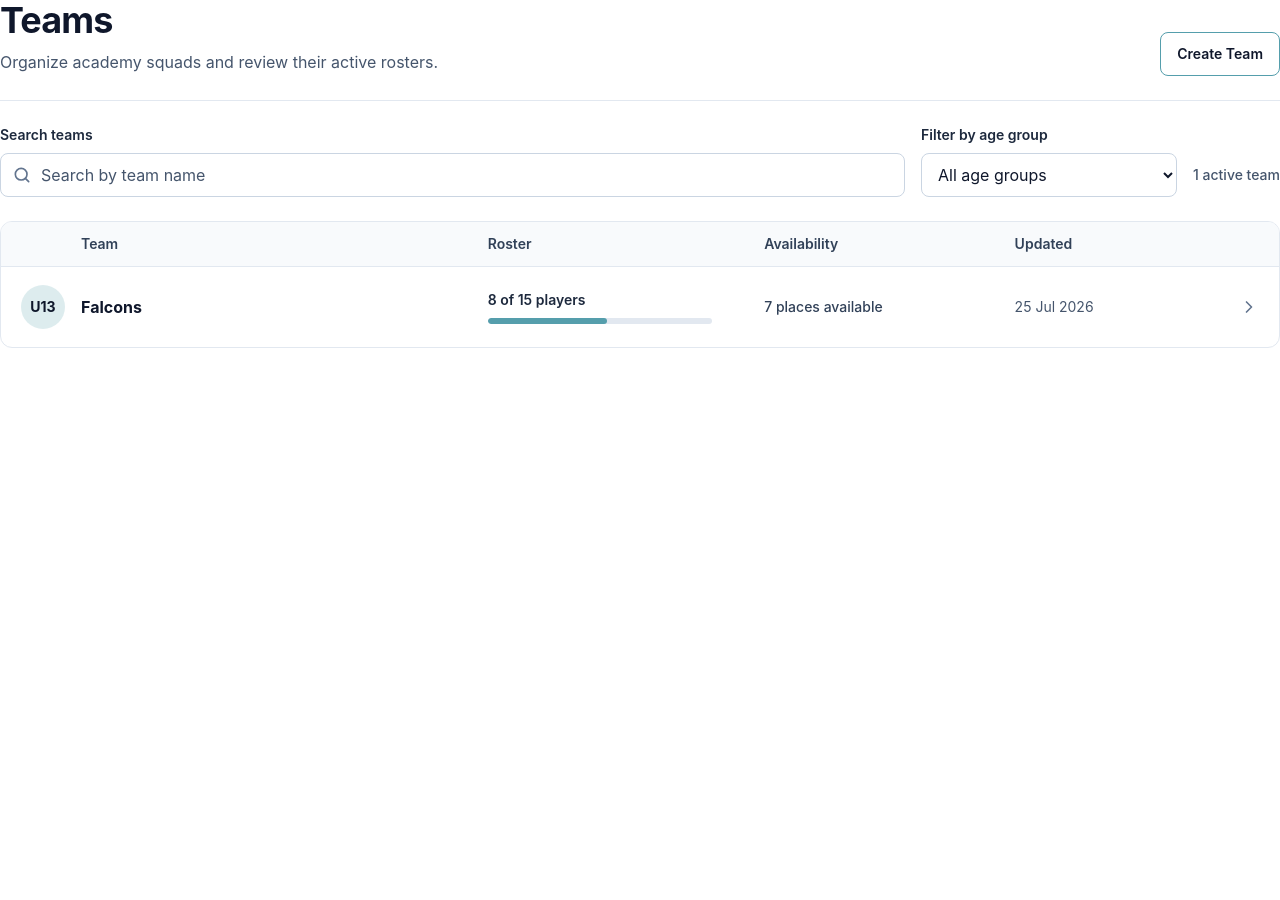
Test: TeamsPage › renders team success through the shared toast and clears it manually
The image size is (1280, 900).
Click the button with aria-label "View Falcons" at (43, 307), box [1, 267, 1279, 347]
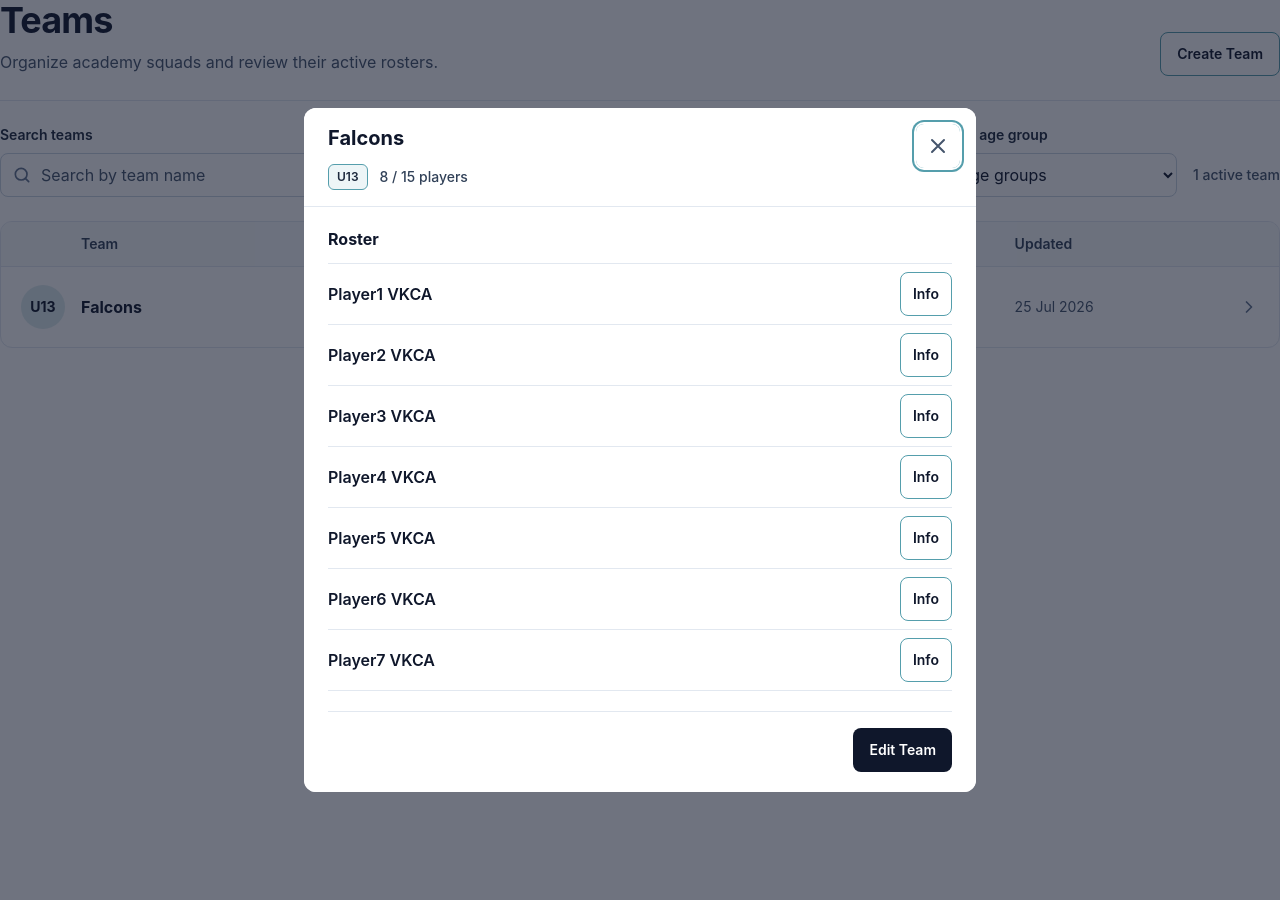
Click the button "Edit Team" at (903, 750), box [853, 728, 952, 772]
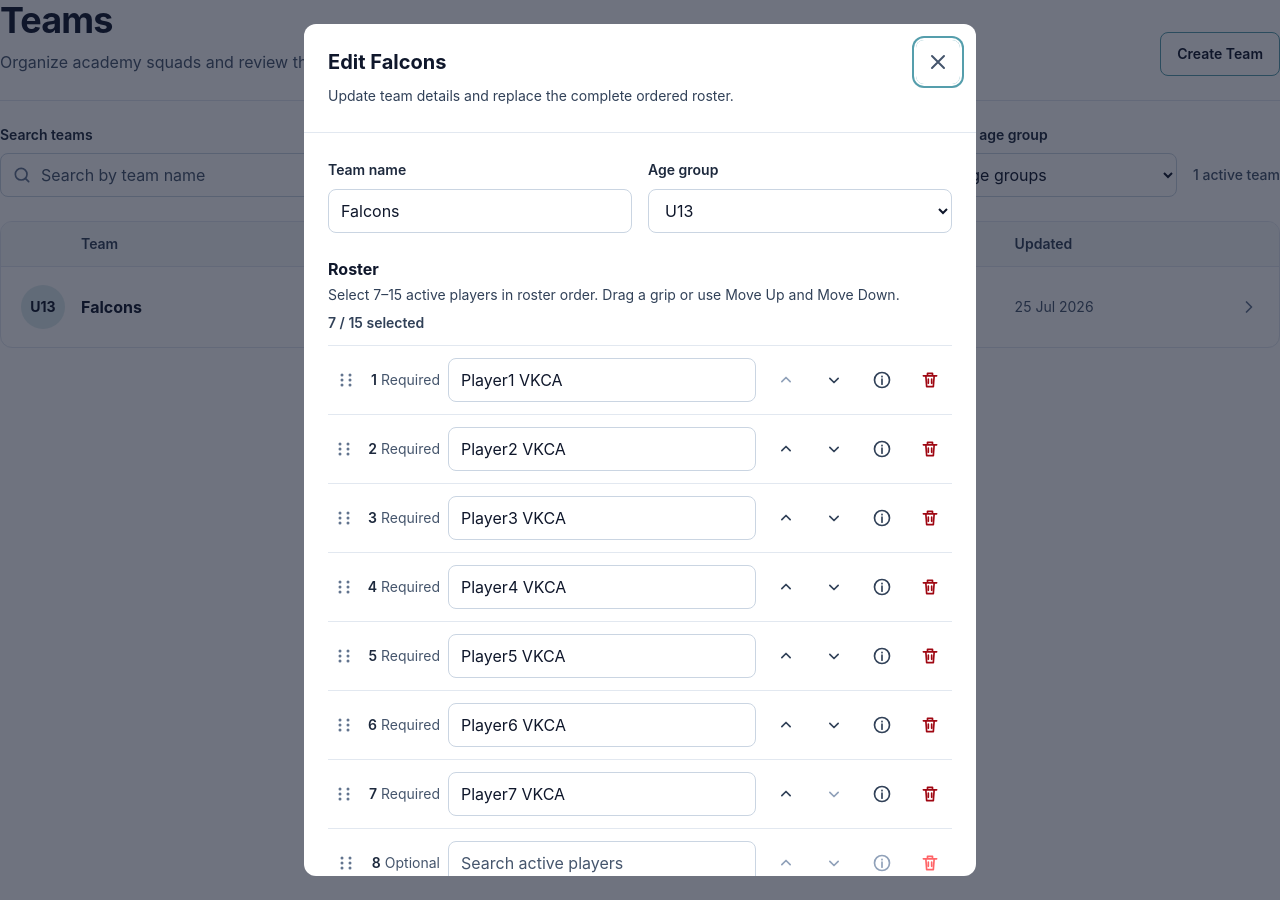
Replace the text in the field labelled "Team name" with "Vulcans I" at (480, 211), box [328, 189, 632, 233]
(page scrolled)
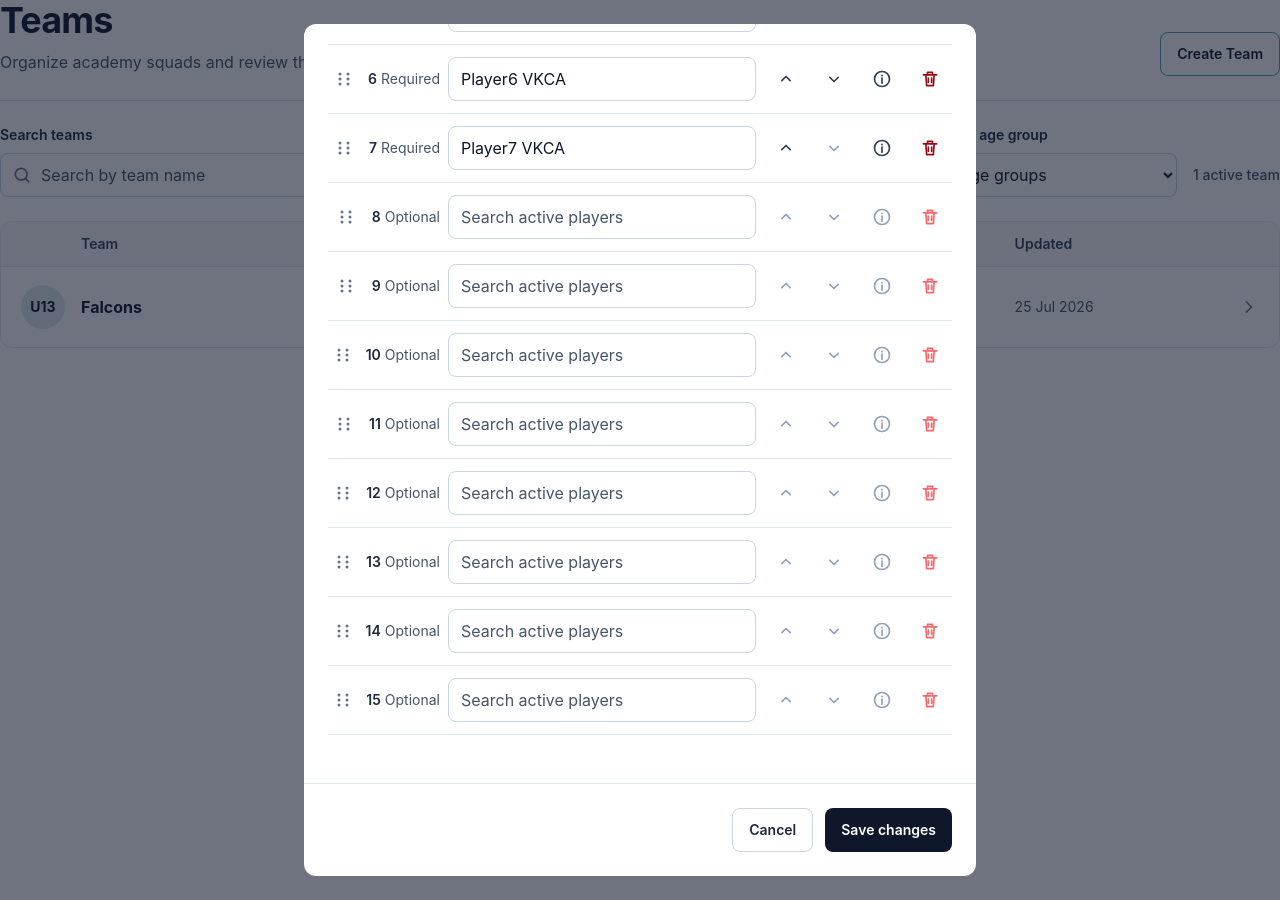
Click the button "Save changes" at (889, 830), box [825, 808, 952, 852]
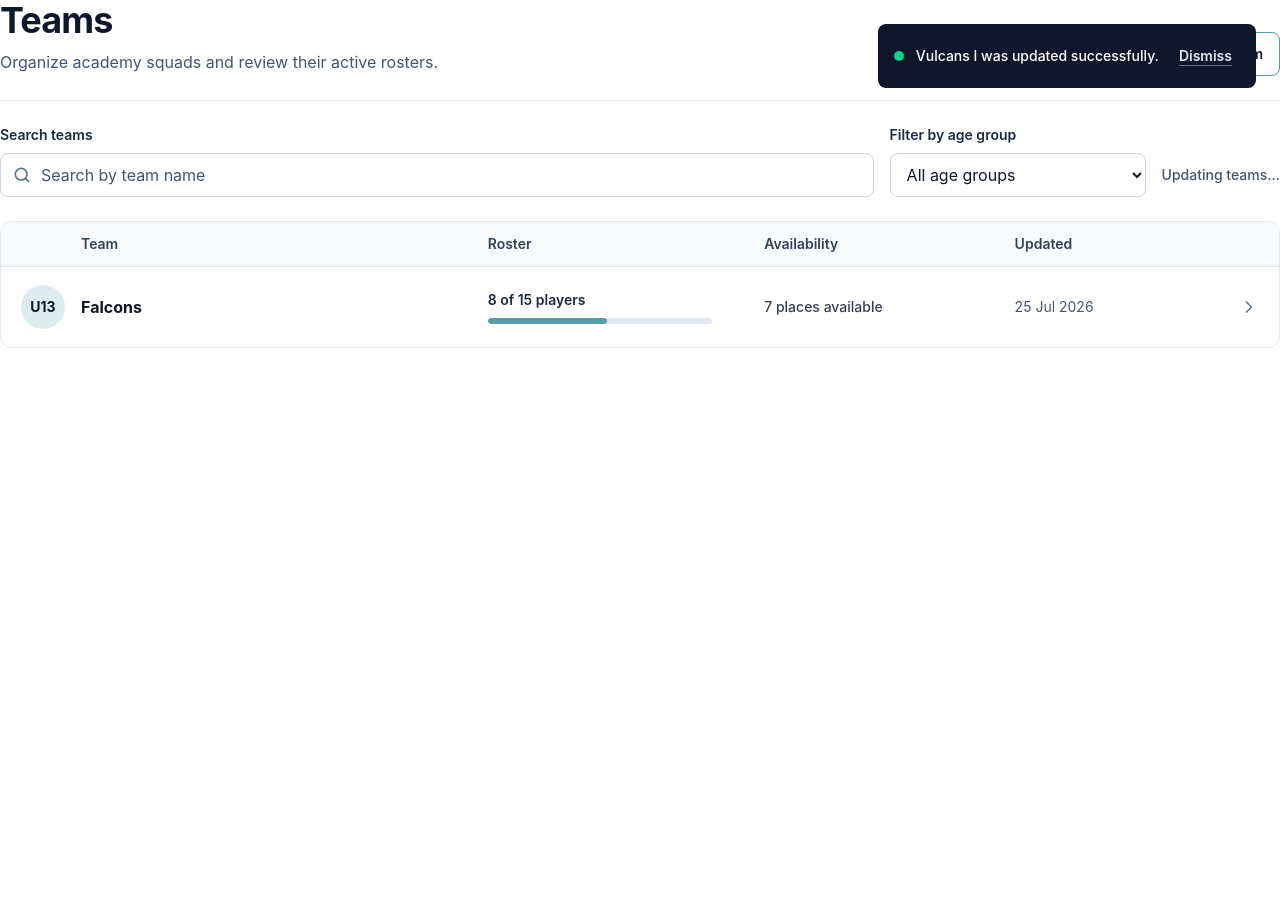
Click the button "Dismiss" at (1205, 56), box [1171, 34, 1240, 78]
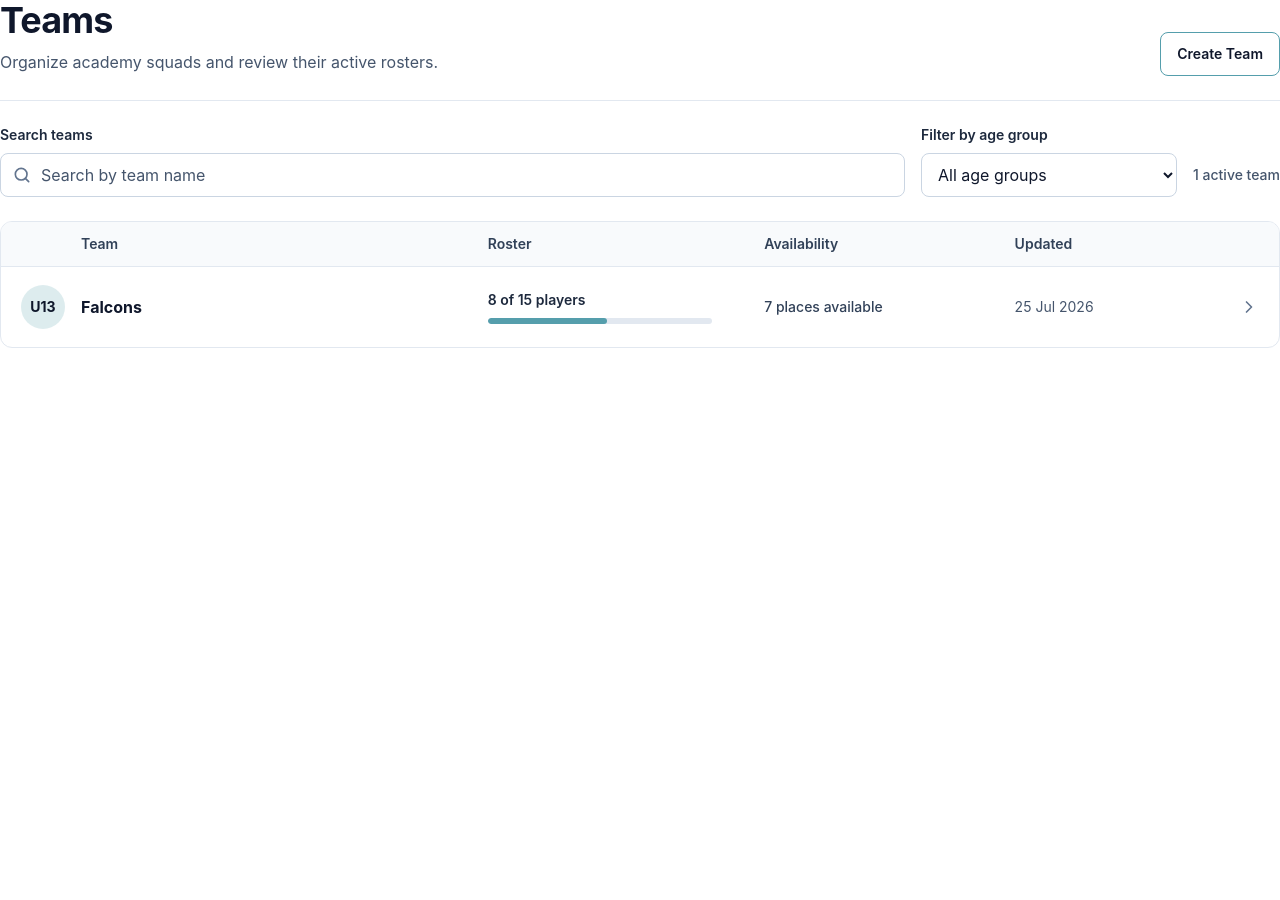
Result: the text "Vulcans I was updated successfully." is gone
